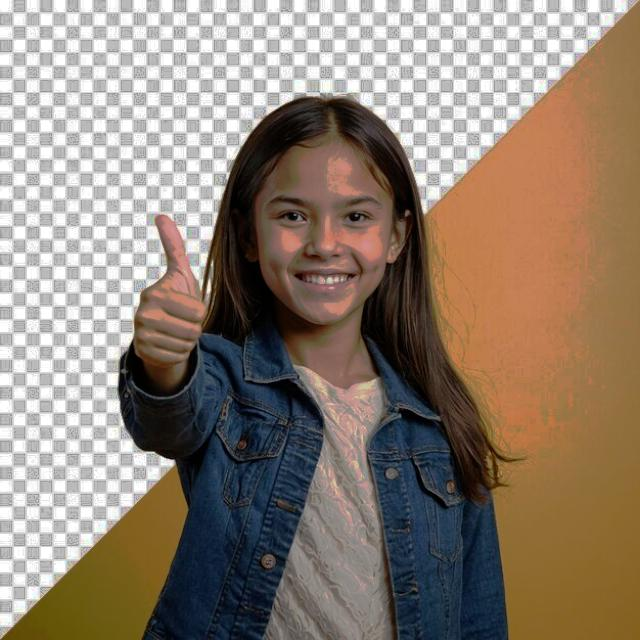thumbs_up: (128, 211, 210, 374)
